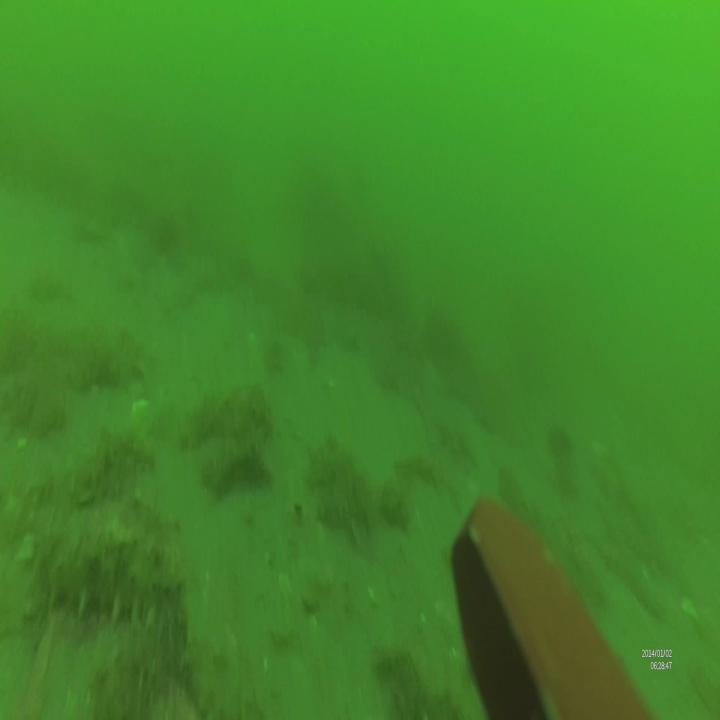holothurian: (38, 548, 184, 626), (204, 441, 274, 499)
